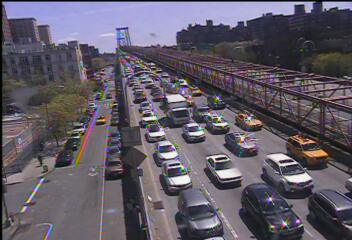neg: (78, 138, 106, 176), (321, 64, 348, 100), (205, 185, 232, 221), (232, 90, 256, 122), (273, 80, 296, 111), (201, 120, 223, 150), (132, 109, 154, 138), (316, 116, 336, 143), (53, 200, 70, 222), (283, 34, 299, 56), (283, 150, 299, 171), (338, 28, 351, 48), (193, 68, 207, 86), (233, 43, 245, 58), (158, 47, 169, 61), (90, 41, 100, 54), (67, 29, 77, 42), (42, 24, 49, 34), (195, 22, 202, 31), (198, 41, 205, 50), (138, 45, 144, 53), (20, 29, 26, 36), (94, 59, 99, 66), (237, 24, 241, 30), (154, 60, 157, 65)
pos: (36, 152, 46, 166)
